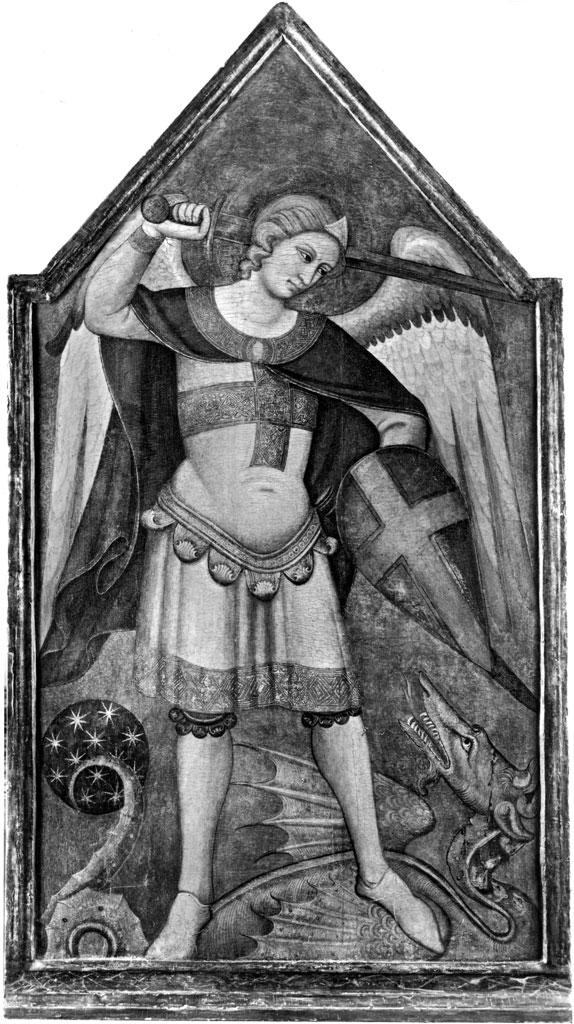angel: (36, 174, 513, 961)
dragon: (51, 675, 544, 964)
sword: (142, 190, 534, 304)
